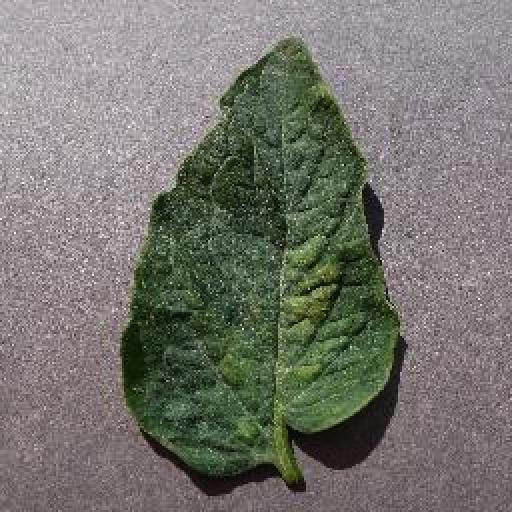disease_tomato: (118, 36, 398, 480)
